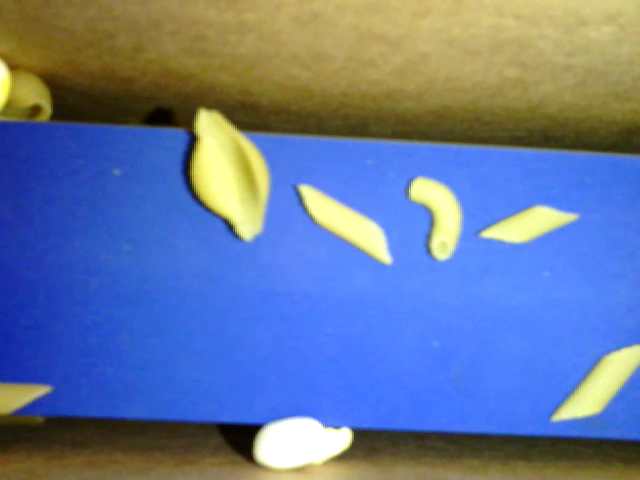elbow: (407, 175, 462, 263)
penne: (298, 181, 392, 268), (551, 342, 638, 423), (477, 203, 582, 247), (1, 382, 54, 418)
shell: (177, 109, 276, 242), (5, 70, 55, 125)
